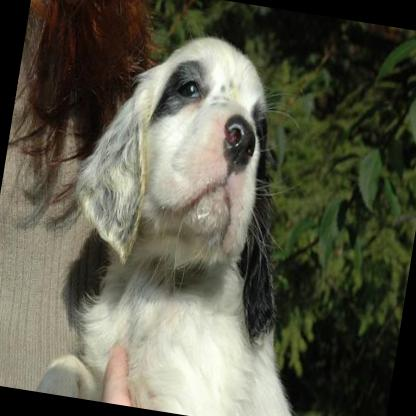English_setter: (35, 13, 357, 416)
